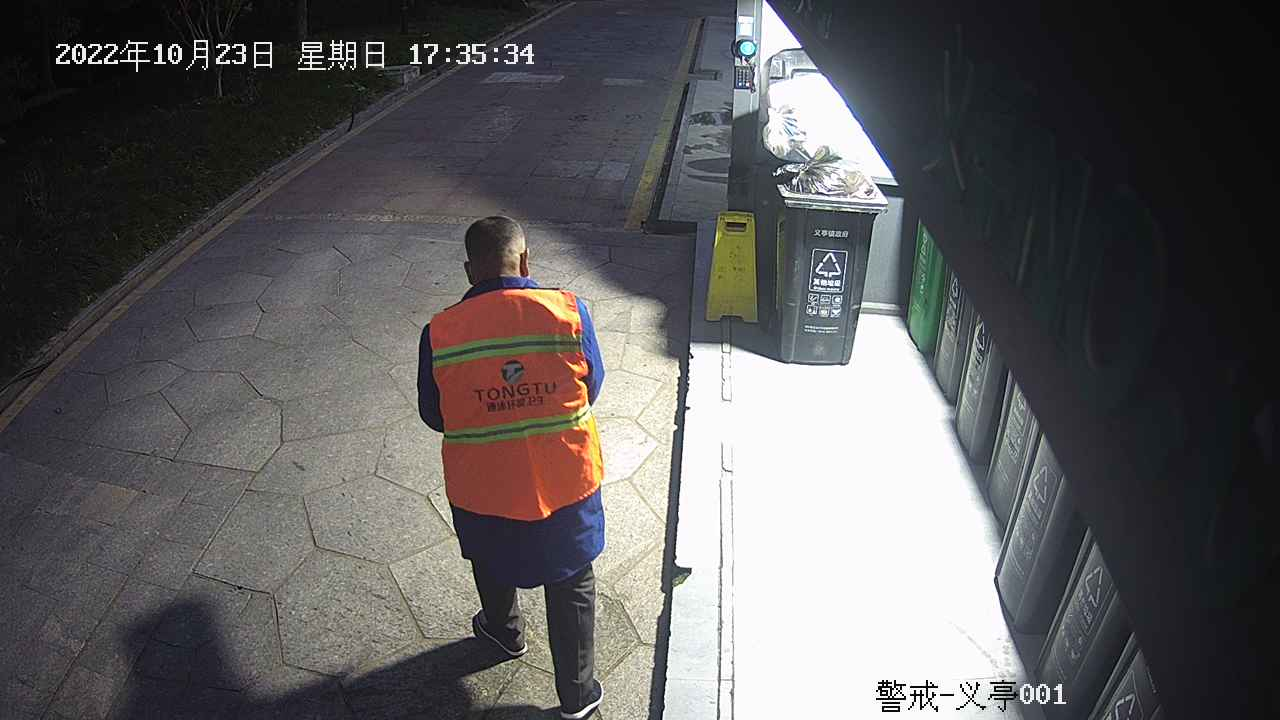worker: (414, 214, 609, 720)
